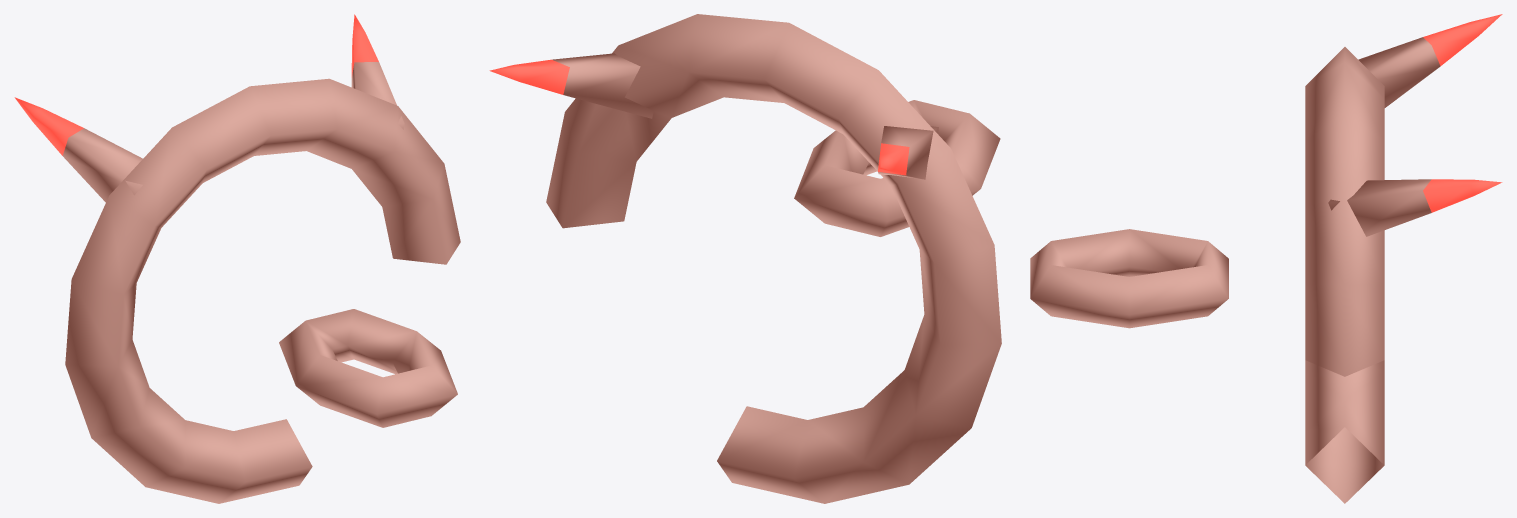
File: shackle_head.glb
3 renders of one model, left to right at view 1: azimuth 30°, elevation 25°; view 2: azimuth 150°, elevation 25°; view 3: azimuth 270°, elevation 25°, orthographic. The views are drawn at different scales.
Parts seen in each view (by area): view 1: shackle_head; view 2: shackle_head; view 3: shackle_head.
Part boxes in pixels (box(x1,y1,x2,y2)): shackle_head: box(14, 14, 460, 503); shackle_head: box(489, 14, 1001, 503); shackle_head: box(1030, 14, 1502, 503).
Size of the model in its own units: 0.4084 by 0.406 by 0.4169.
